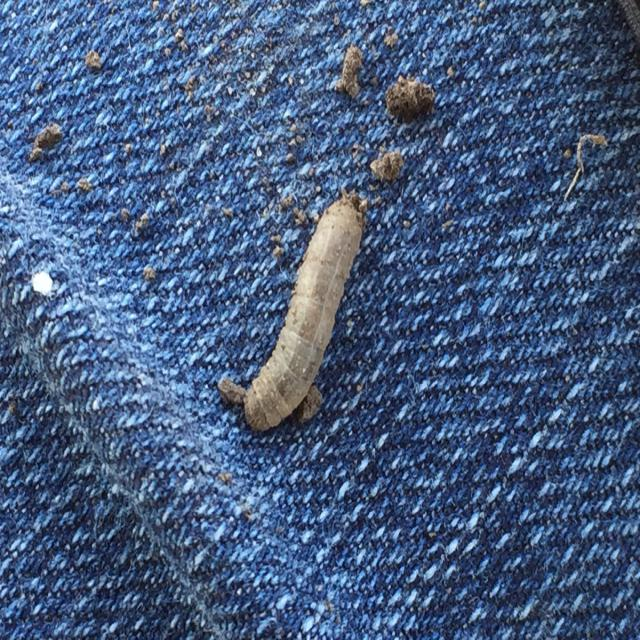Cutworm: (243, 195, 371, 438)
